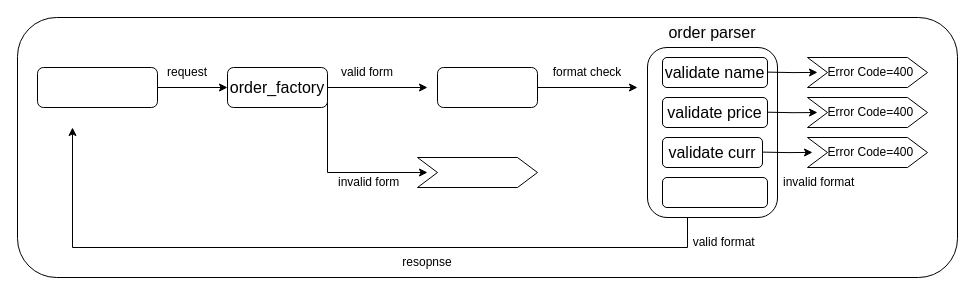
The diagram is 975 pixels wide and 295 high, and some of its shapes have lost their labels. The centre of each missing label's shape, as x and y in pixels:
create order: [487,87]
Error Code=412: [477,172]
Post /api/orders: [97,87]
transform curr: [715,192]
